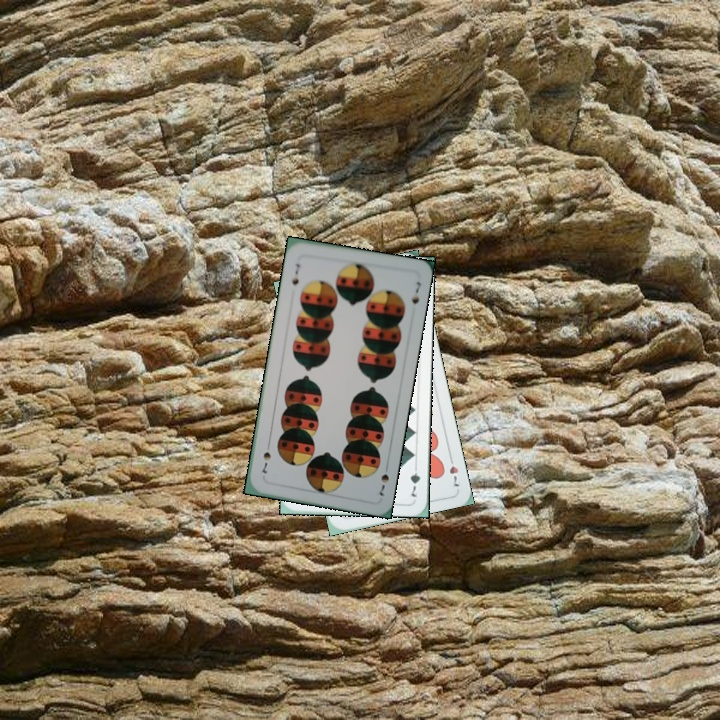G7: (406, 460, 423, 499)
H7: (445, 451, 462, 490)
S7: (375, 460, 392, 499), (288, 259, 302, 288)
